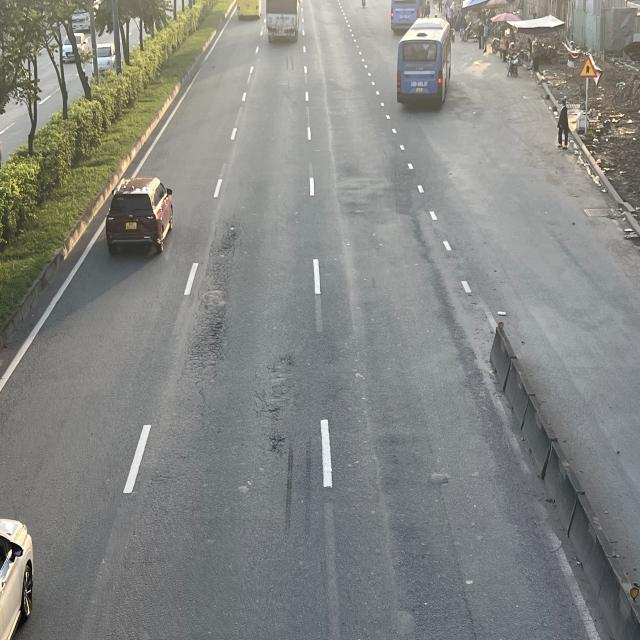car: (105, 177, 176, 259)
coach: (398, 19, 454, 108), (394, 0, 422, 32)
truck: (266, 0, 302, 44)
